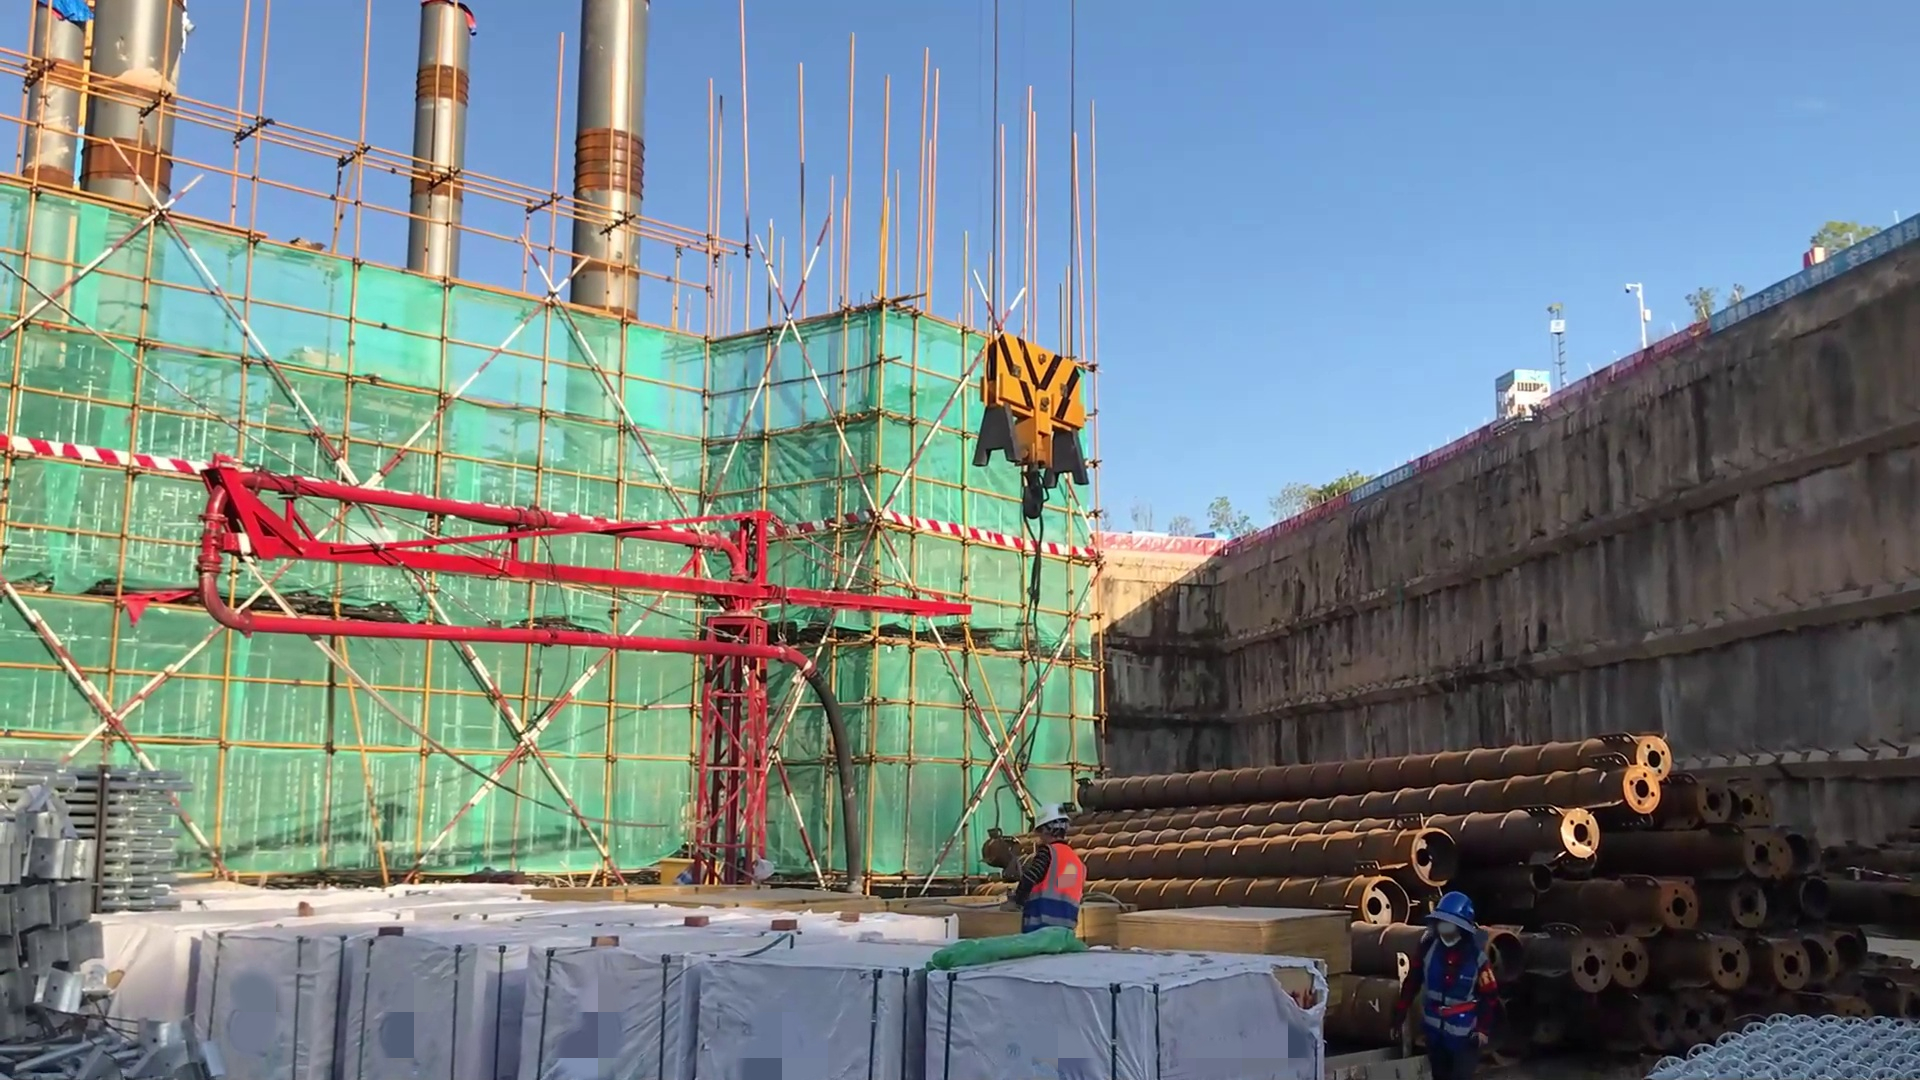board: (1113, 894, 1358, 990), (1074, 901, 1138, 946)
ebox: (658, 857, 716, 902)
helmet: (1421, 887, 1484, 950), (1034, 805, 1070, 847)
hook: (961, 323, 1125, 613)
person: (1407, 885, 1507, 1080), (985, 813, 1100, 953)
scaffold: (40, 738, 201, 921)
slogan: (1700, 212, 1920, 333), (1338, 452, 1430, 507)
vest: (1414, 928, 1490, 1053), (1013, 840, 1087, 935)
